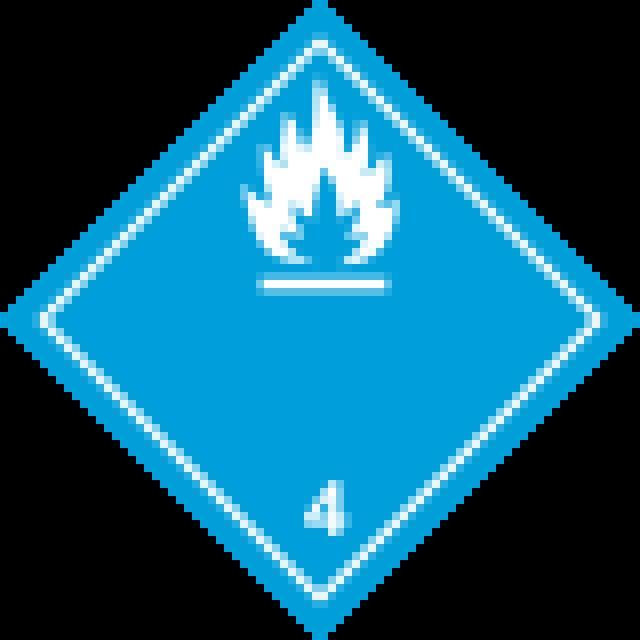Division 4-3: (8, 8, 640, 640)
